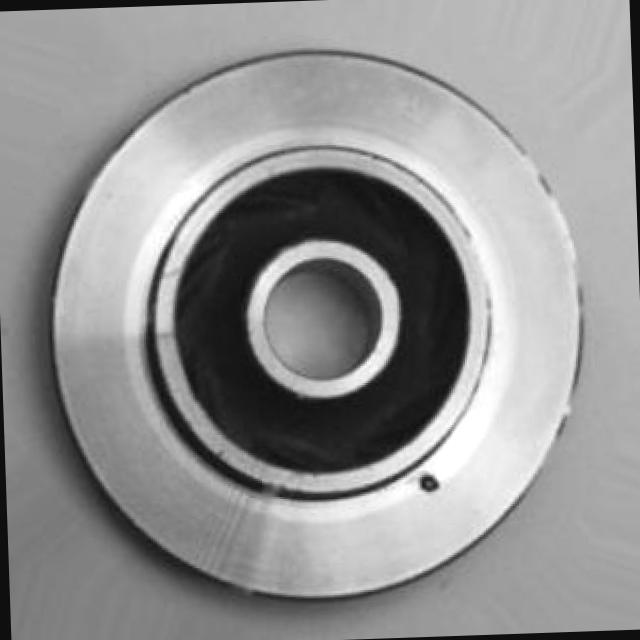Defect: (415, 468, 446, 504)
